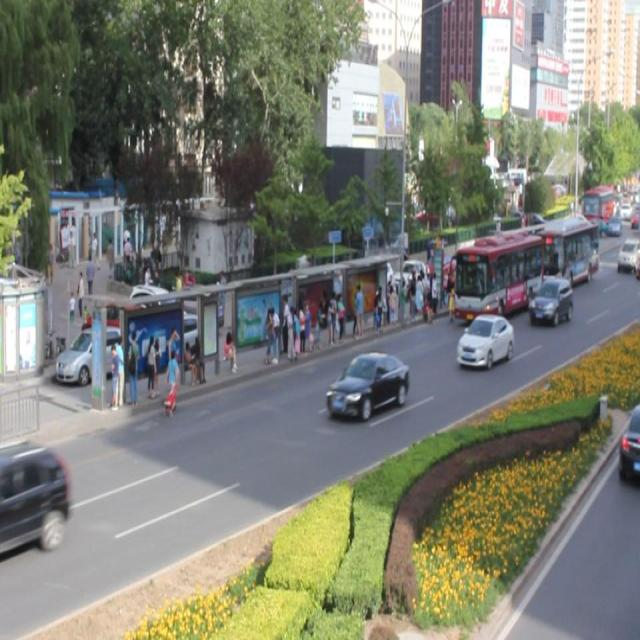car: (1, 440, 69, 561), (326, 352, 408, 422), (454, 312, 511, 369), (528, 277, 570, 325)
van: (447, 232, 538, 326), (532, 220, 598, 285)
